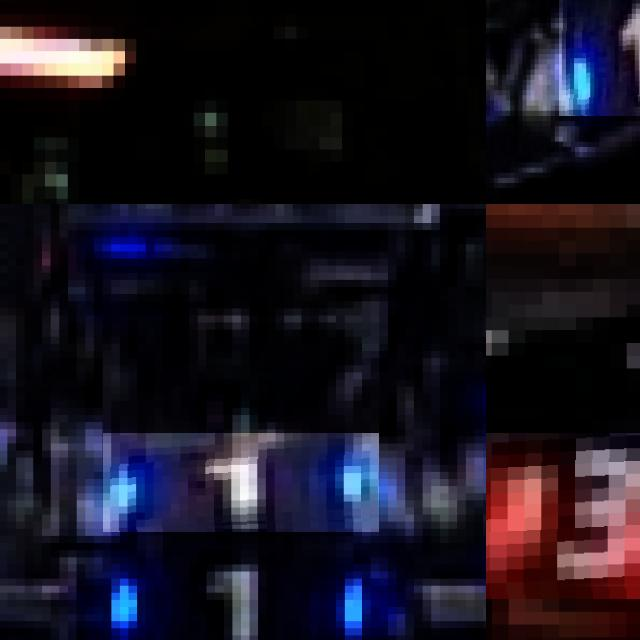B1: (103, 433, 379, 532), (80, 557, 392, 640), (559, 0, 640, 115)
R3: (486, 432, 640, 599)
